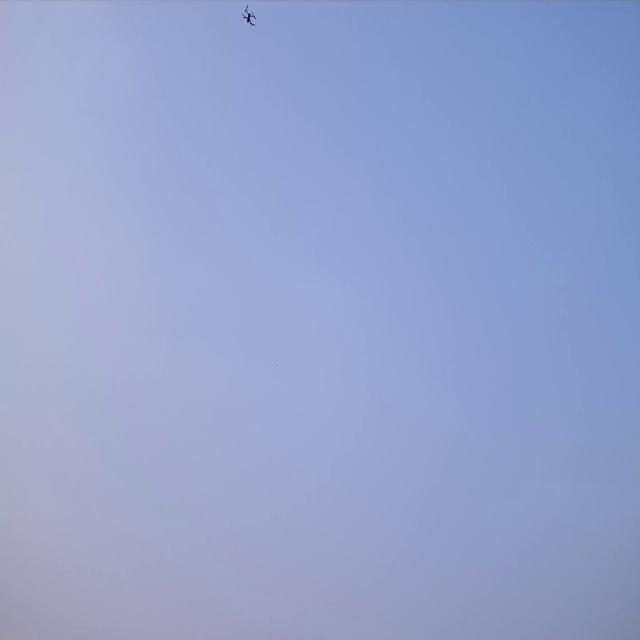UAV: (241, 3, 257, 27)
